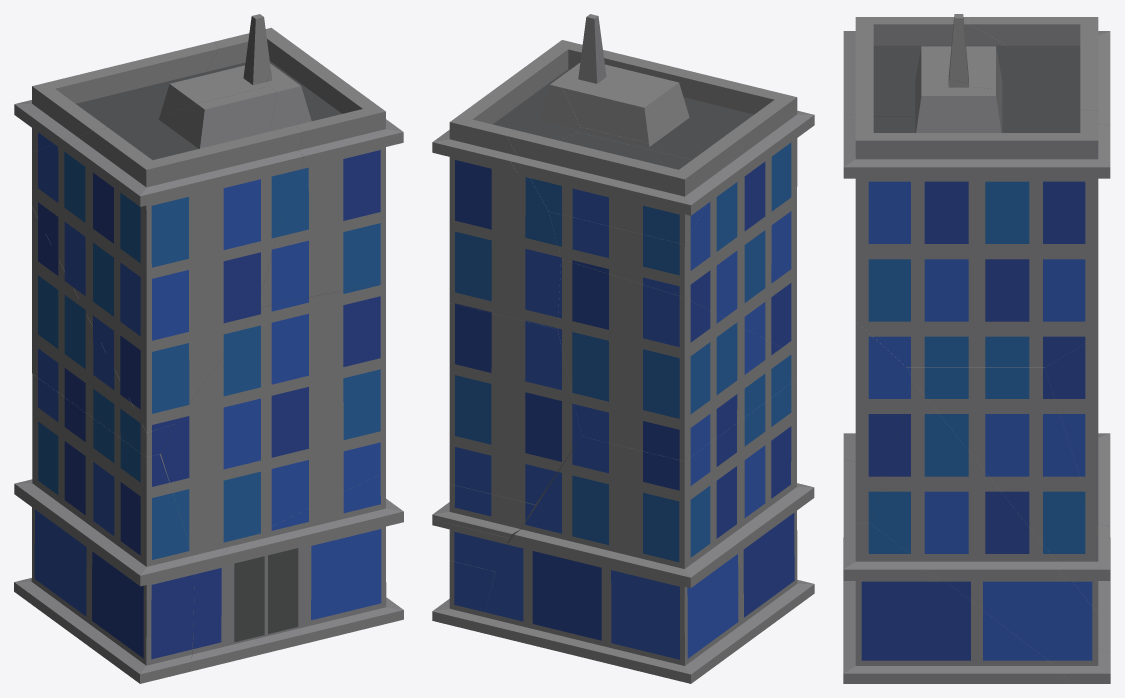
Rendered from HighHouse 1.1 Fractured.fbx.
3 renders of one model, left to right at view 1: azimuth 30°, elevation 25°; view 2: azimuth 150°, elevation 25°; view 3: azimuth 270°, elevation 25°, orthographic. The views are drawn at different scales.
Parts seen in each view (by area): view 1: HighHouse_1_01_Breaking_cell.005, HighHouse_1_01_Breaking_cell, HighHouse_1_01_Breaking_cell.004, HighHouse_1_01_Breaking_cell.001, HighHouse_1_01_Breaking_cell.002, HighHouse_1_01_Breaking_cell.006, HighHouse_1_01_Breaking_cell.003; view 2: HighHouse_1_01_Breaking_cell.004, HighHouse_1_01_Breaking_cell.005, HighHouse_1_01_Breaking_cell.003, HighHouse_1_01_Breaking_cell.002, HighHouse_1_01_Breaking_cell.006, HighHouse_1_01_Breaking_cell.007, HighHouse_1_01_Breaking_cell.008, HighHouse_1_01_Breaking_cell.009; view 3: HighHouse_1_01_Breaking_cell.002, HighHouse_1_01_Breaking_cell.009, HighHouse_1_01_Breaking_cell.001, HighHouse_1_01_Breaking_cell.008, HighHouse_1_01_Breaking_cell.006, HighHouse_1_01_Breaking_cell.005, HighHouse_1_01_Breaking_cell, HighHouse_1_01_Breaking_cell.007, HighHouse_1_01_Breaking_cell.004.
Part boxes in pixels (x1,y1,x2,y2): HighHouse_1_01_Breaking_cell.005: (32,86,303,432); HighHouse_1_01_Breaking_cell: (161,281,385,569); HighHouse_1_01_Breaking_cell.004: (14,374,194,683); HighHouse_1_01_Breaking_cell.001: (189,471,403,671); HighHouse_1_01_Breaking_cell.002: (206,27,403,307); HighHouse_1_01_Breaking_cell.006: (14,14,270,152); HighHouse_1_01_Breaking_cell.003: (32,207,174,457); HighHouse_1_01_Breaking_cell.004: (469,379,814,683); HighHouse_1_01_Breaking_cell.005: (549,59,814,354); HighHouse_1_01_Breaking_cell.003: (557,259,796,461); HighHouse_1_01_Breaking_cell.002: (432,40,642,329); HighHouse_1_01_Breaking_cell.006: (506,14,744,244); HighHouse_1_01_Breaking_cell.007: (432,303,581,537); HighHouse_1_01_Breaking_cell.008: (432,484,544,571); HighHouse_1_01_Breaking_cell.009: (432,560,495,629); HighHouse_1_01_Breaking_cell.002: (843,79,1110,367); HighHouse_1_01_Breaking_cell.009: (871,382,1110,683); HighHouse_1_01_Breaking_cell.001: (843,476,1073,683); HighHouse_1_01_Breaking_cell.008: (907,367,1110,613); HighHouse_1_01_Breaking_cell.006: (938,14,1110,125); HighHouse_1_01_Breaking_cell.005: (843,17,1007,116); HighHouse_1_01_Breaking_cell: (843,321,913,523); HighHouse_1_01_Breaking_cell.007: (1045,336,1110,573); HighHouse_1_01_Breaking_cell.004: (843,433,1110,652).
Size of the model in its own units: 551 by 1168 by 456.
